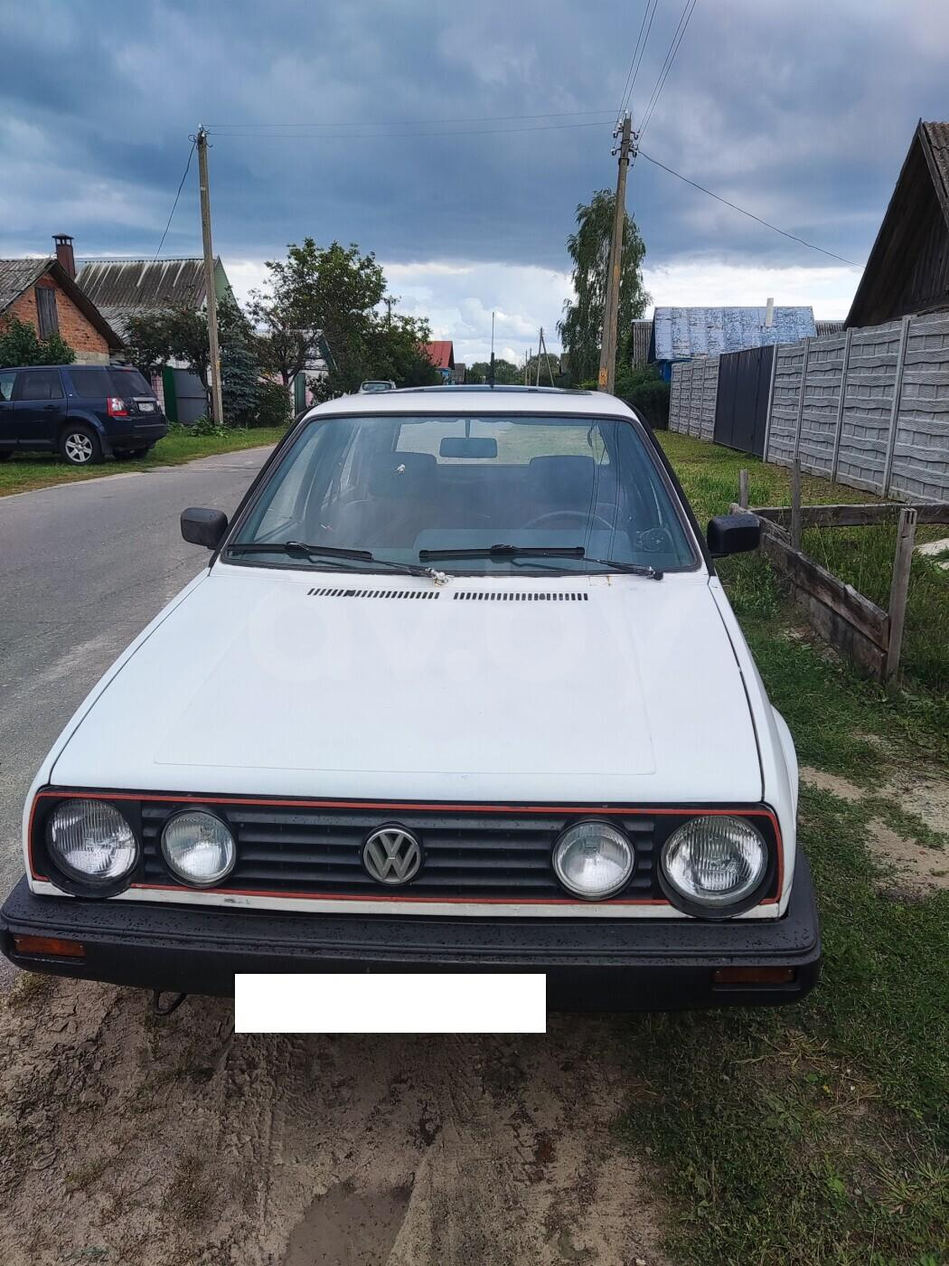Golf_1983-1992: (0, 383, 832, 1025)
